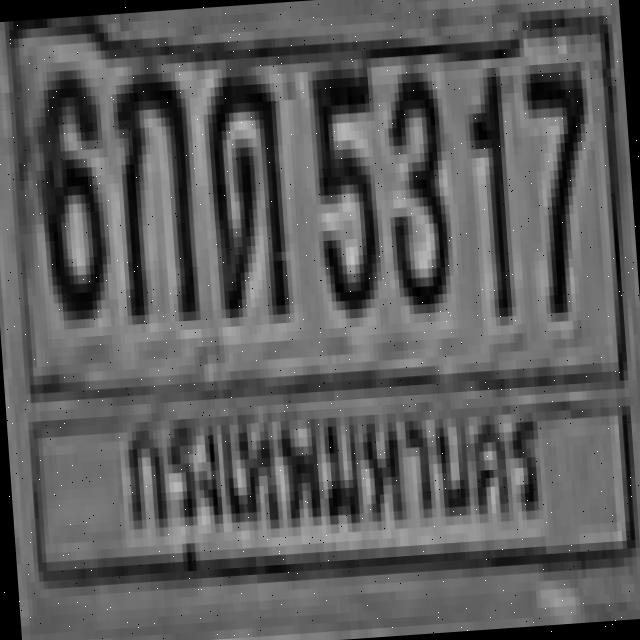1: (461, 62, 512, 314)
10GorGai: (109, 54, 195, 316)
29DorDek: (200, 61, 284, 305)
3: (379, 62, 451, 306)
5: (306, 58, 383, 311)
6: (28, 60, 106, 313)
7: (520, 56, 597, 310)
Bangkok: (113, 366, 557, 592)
